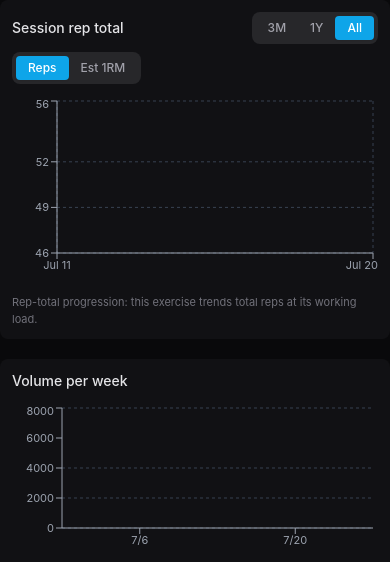
Test case: rep_total detail tabs (no e1RM anywhere) › ChartsTab: metric toggle switches to the e1RM trend and back
The width and height of the screenshot is (390, 562).
Click the button "Est 1RM". click: coordinates (103, 68)
box: [68,56,137,80]
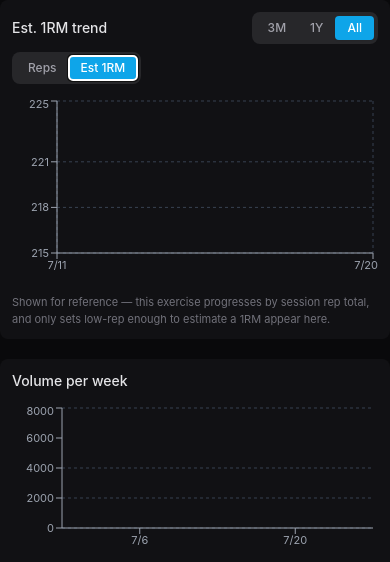
Expected: the text "Est. 1RM trend" is shown, [12,18,107,38]
Expected: the text "Shown for reference" is shown, [12,295,369,326]
Click the button "Reps". click: coordinates (42, 68)
box: [16,56,68,80]
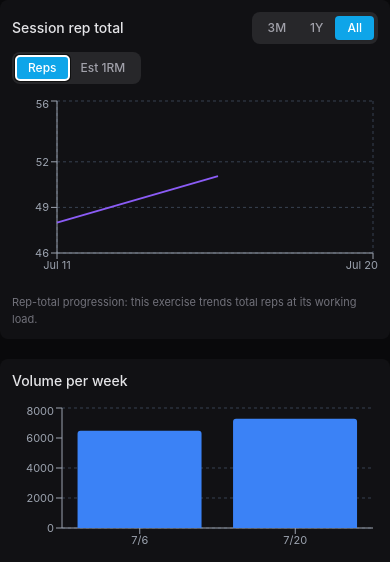
Expected: the text "Session rep total" is shown, [12,18,124,38]
Expected: the text "Est. 1RM trend" is gone
